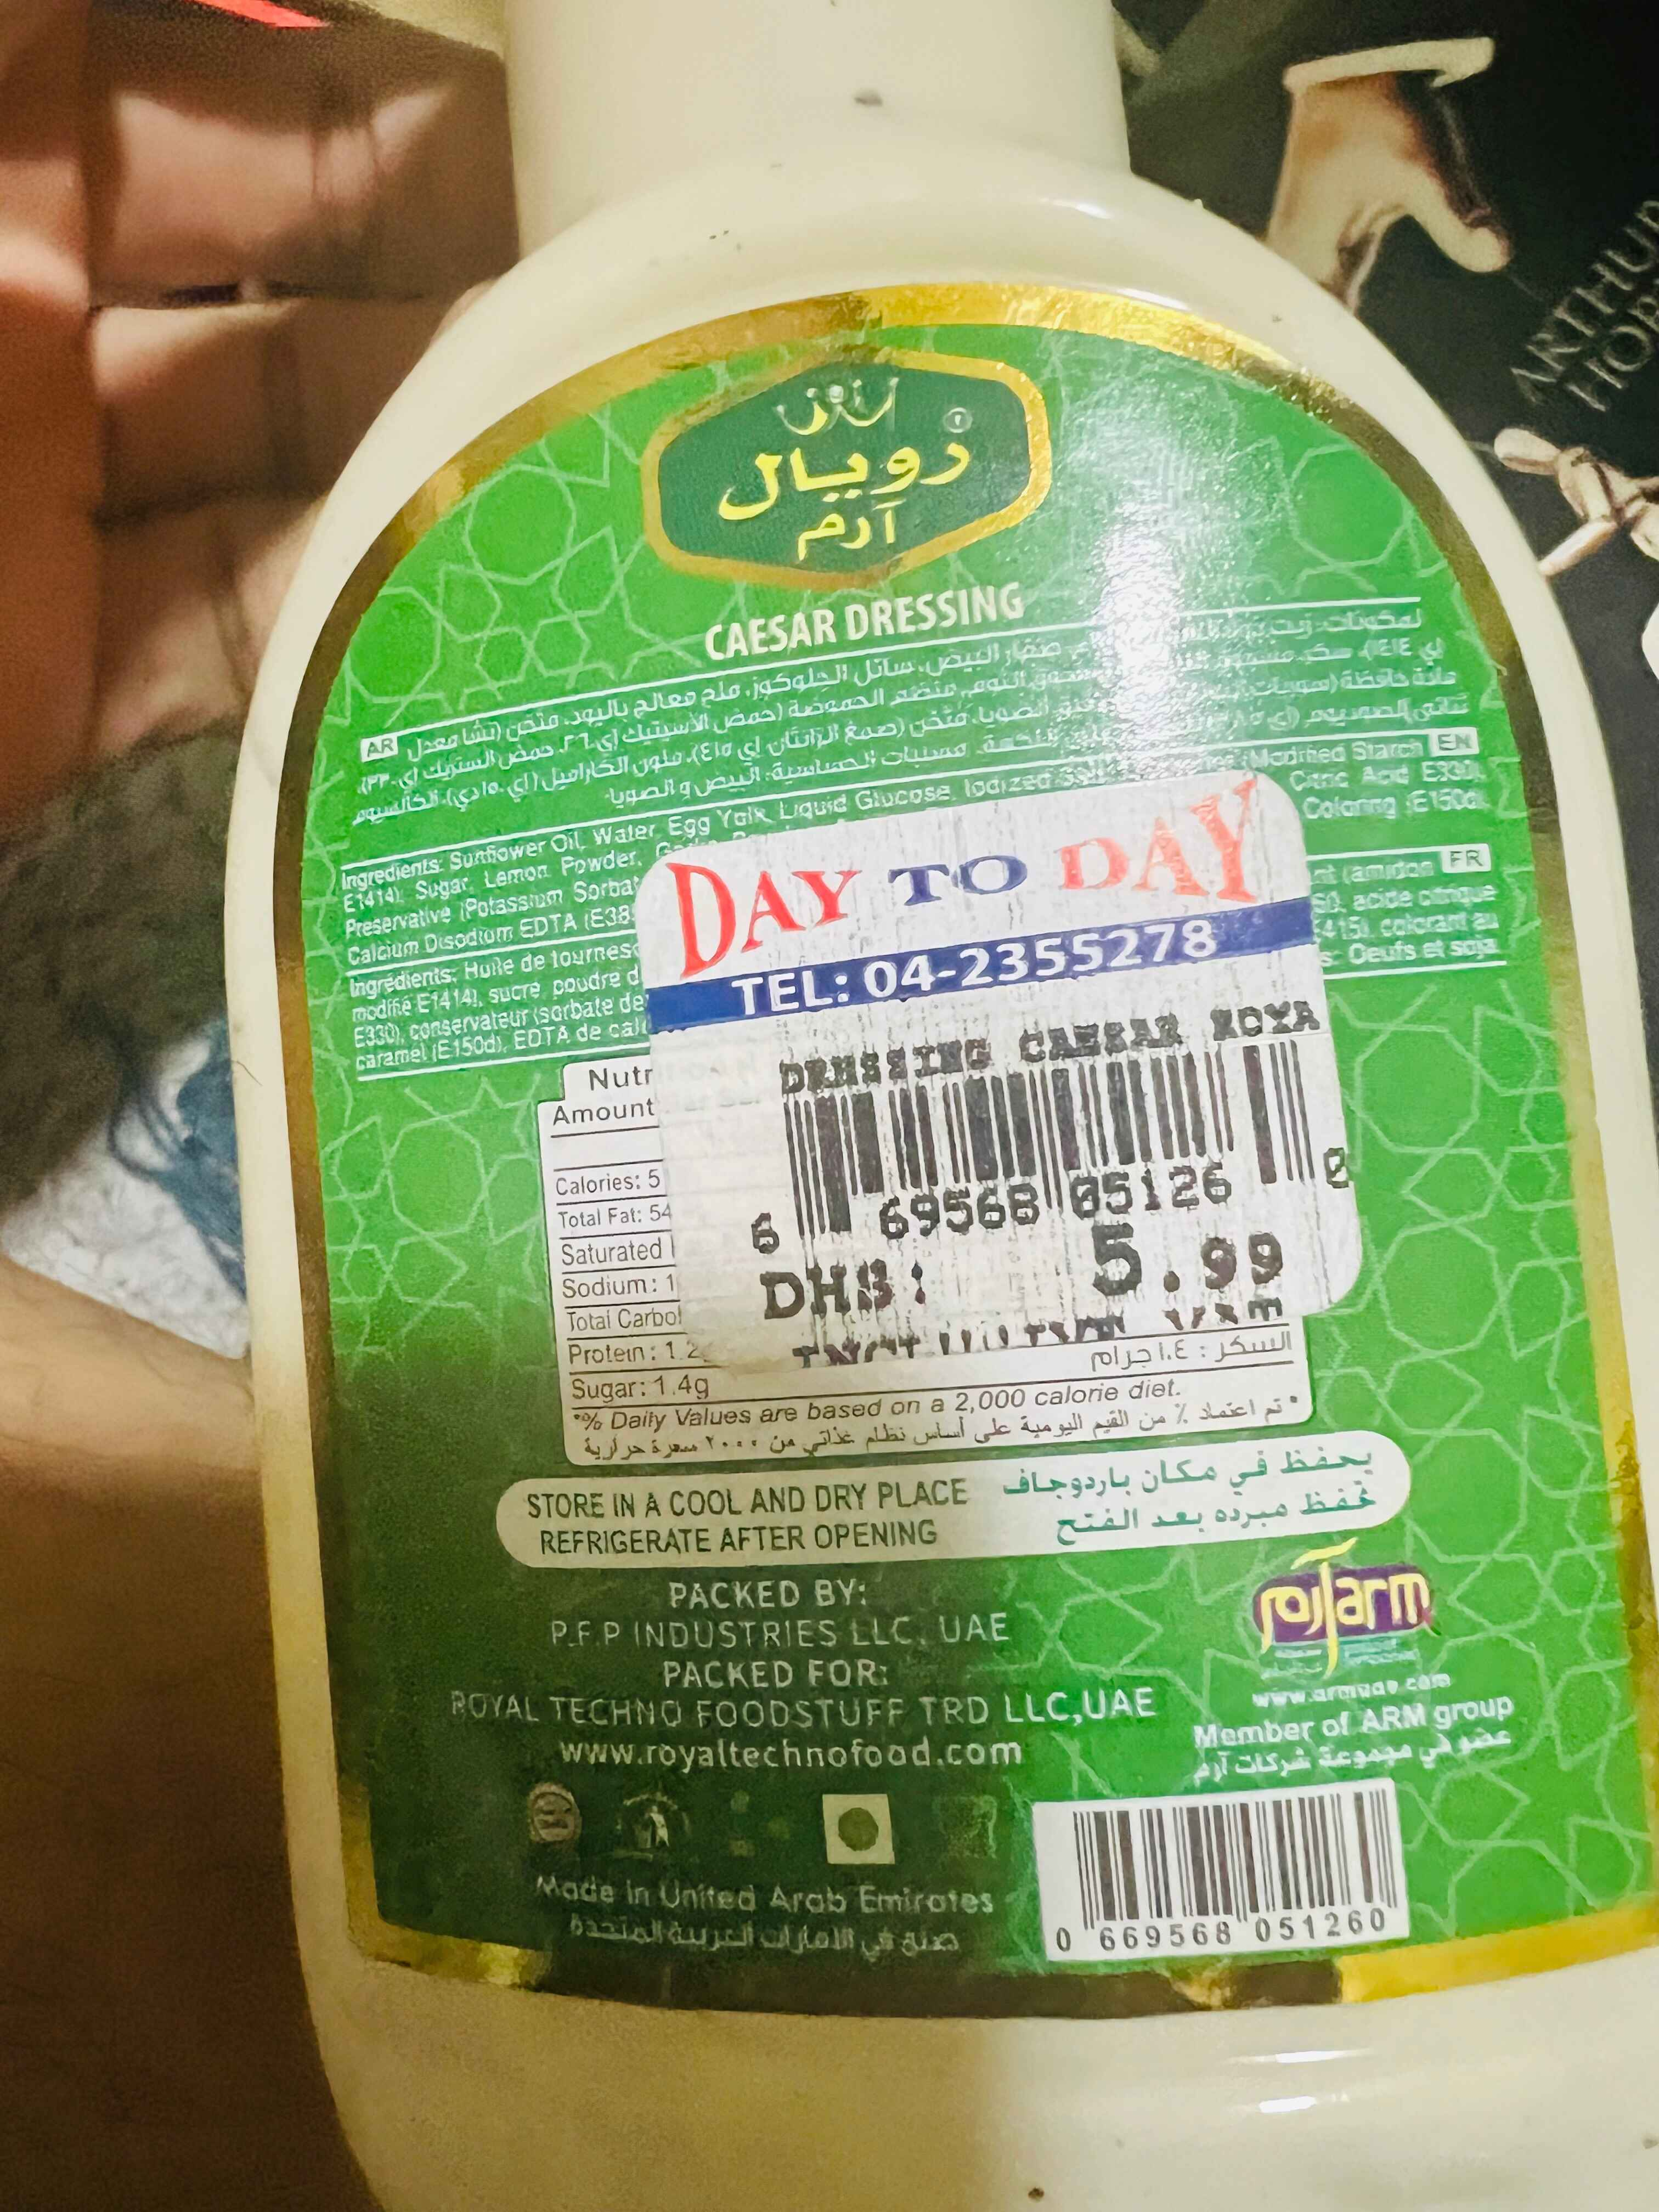PriceTagBig: (640, 777, 1373, 1371)
